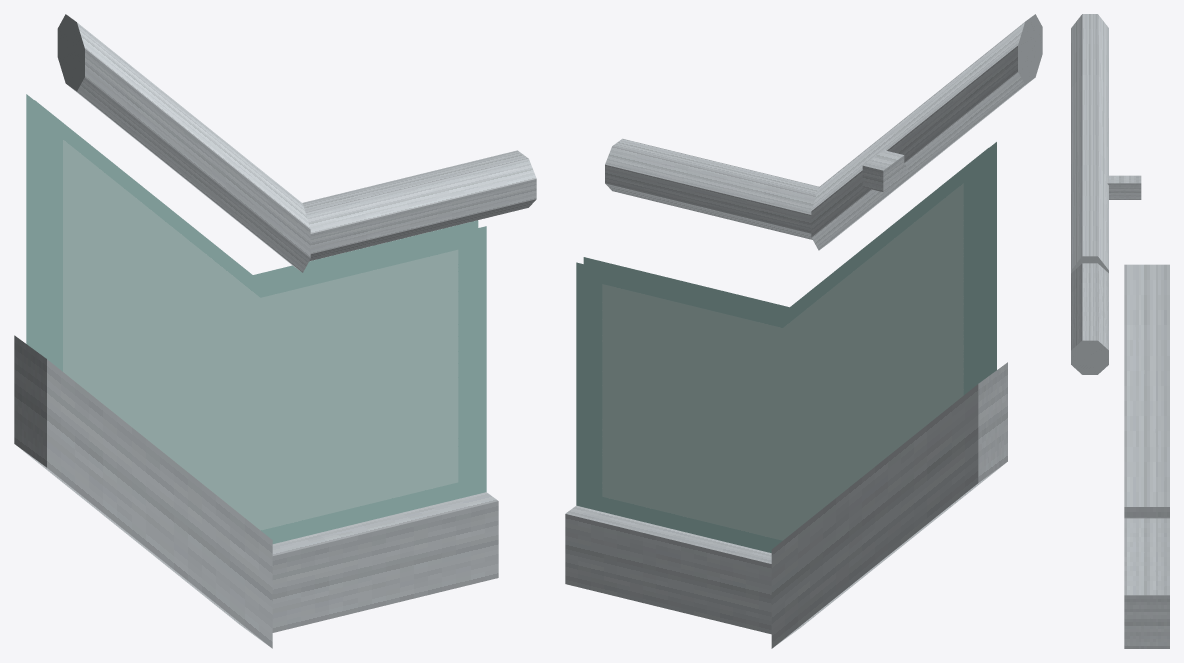
Rendered from foot_neg.obj.
The picture shows the model from 3 angles, left to right: view 1: azimuth 30°, elevation 25°; view 2: azimuth 150°, elevation 25°; view 3: azimuth 270°, elevation 25°; orthographic projection. The views are drawn at different scales.
Parts seen in each view (by area): view 1: railing_glass_stainless_foot_neg; view 2: railing_glass_stainless_foot_neg; view 3: railing_glass_stainless_foot_neg.
Boxes of the visible parts, left/top/right/bottom form: railing_glass_stainless_foot_neg: left=14, top=14, right=536, bottom=648; railing_glass_stainless_foot_neg: left=565, top=14, right=1042, bottom=648; railing_glass_stainless_foot_neg: left=1071, top=14, right=1169, bottom=648.
Size of the model in its own units: 1 by 1.49 by 0.2707.
